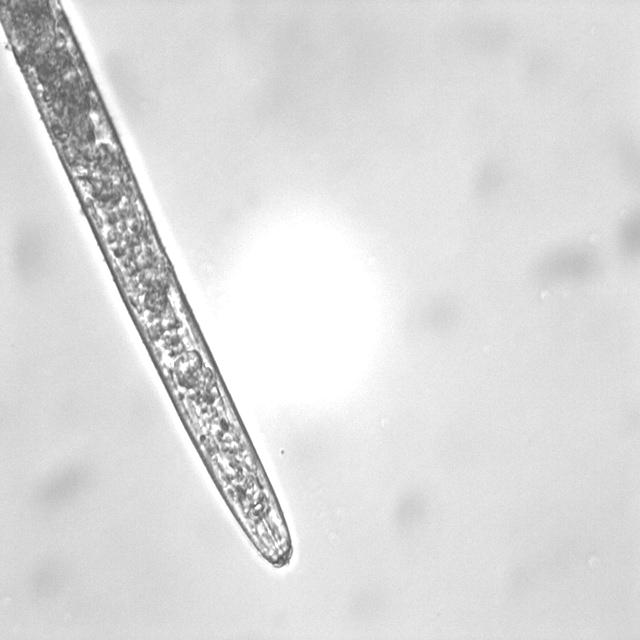Pratylenchus: (1, 0, 306, 575)
